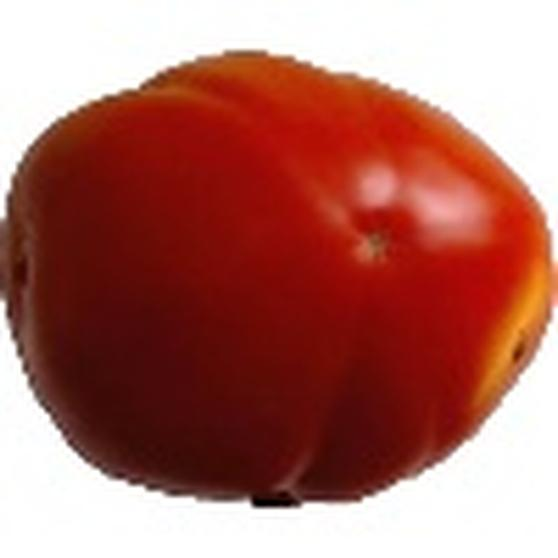tomato: (1, 51, 557, 506)
